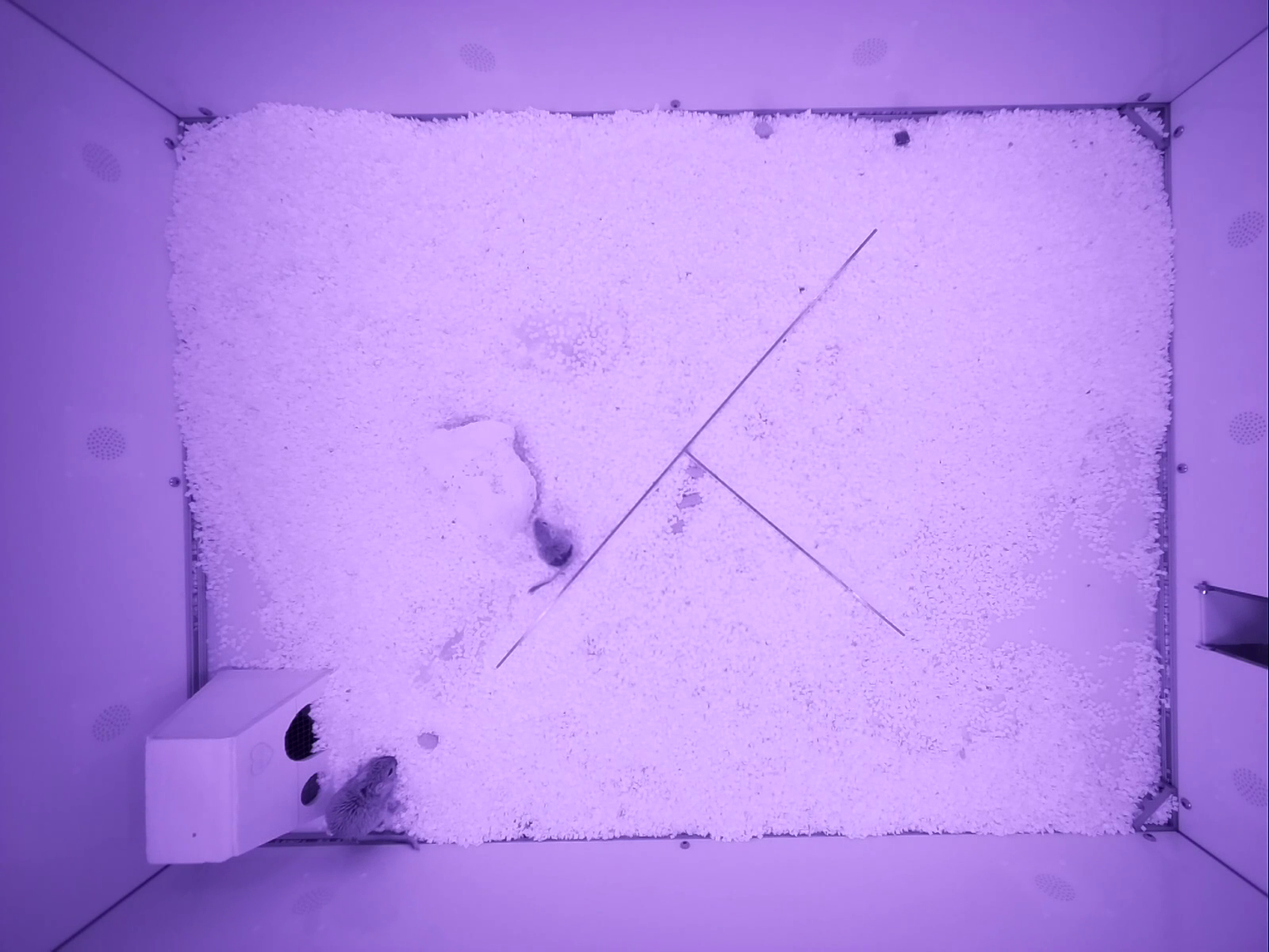adult_back: (326, 755, 397, 839), (529, 518, 573, 593)
